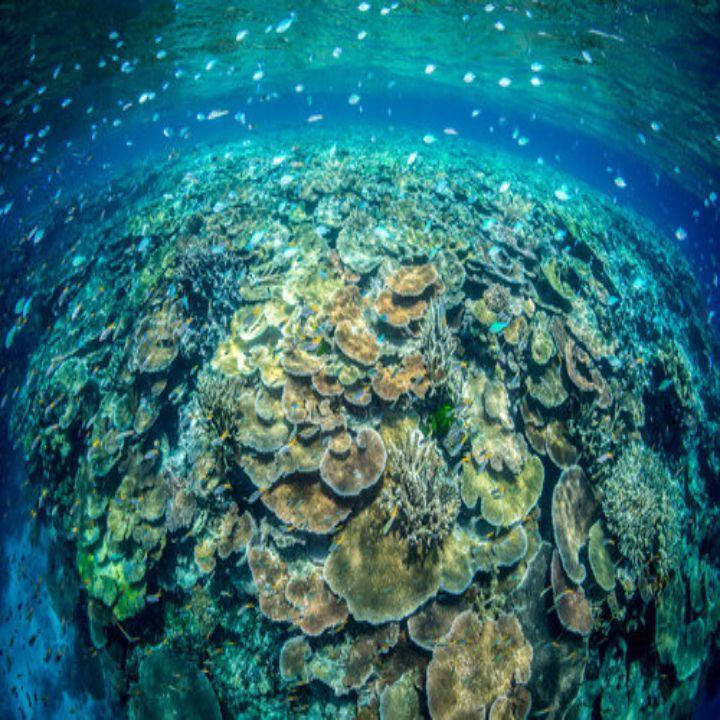Healthy Coral: (33, 157, 695, 699)
